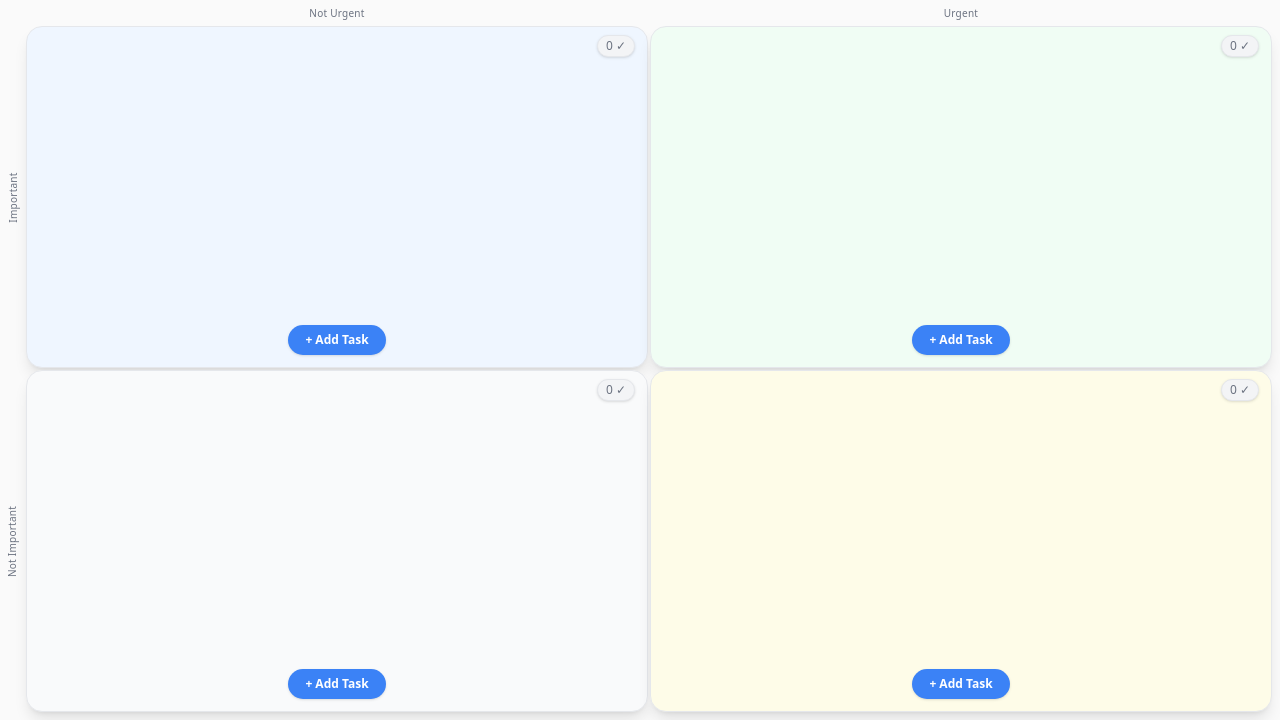
Scenario: EisenhowerMatrix interactions › opens the modal when Add Task is clicked
Click the 1st button "+ Add Task" at (337, 340), box [288,325,386,355]
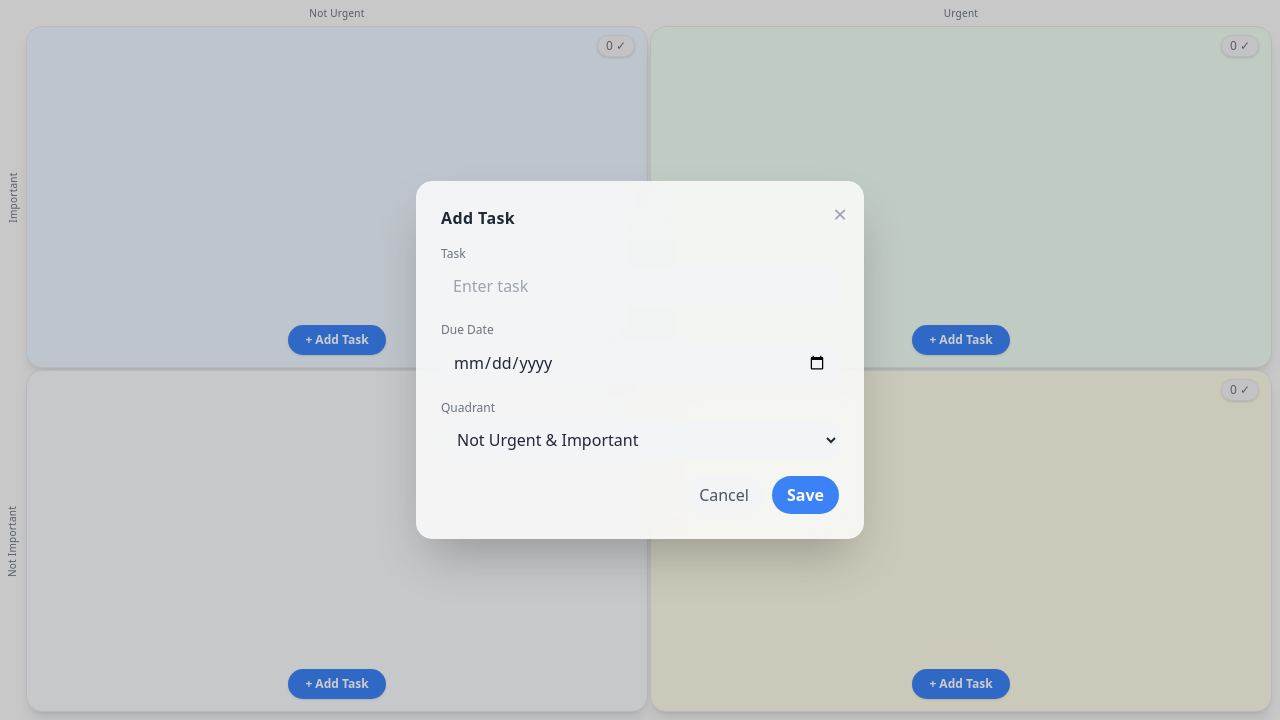
Expected: the heading "Add Task" is shown, [441,207,515,229]
